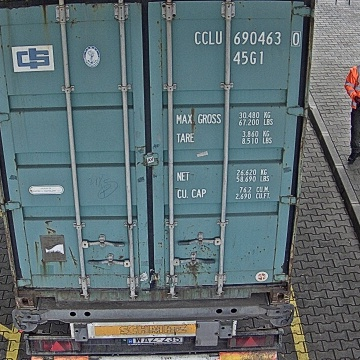serial_id: (194, 31, 300, 44)
